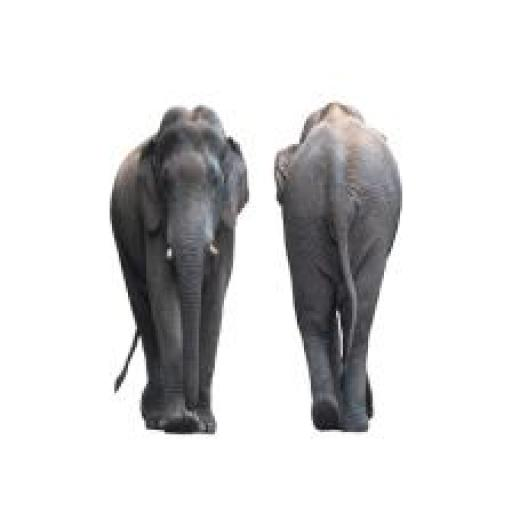Elephant: (111, 105, 248, 433), (275, 102, 401, 431)
